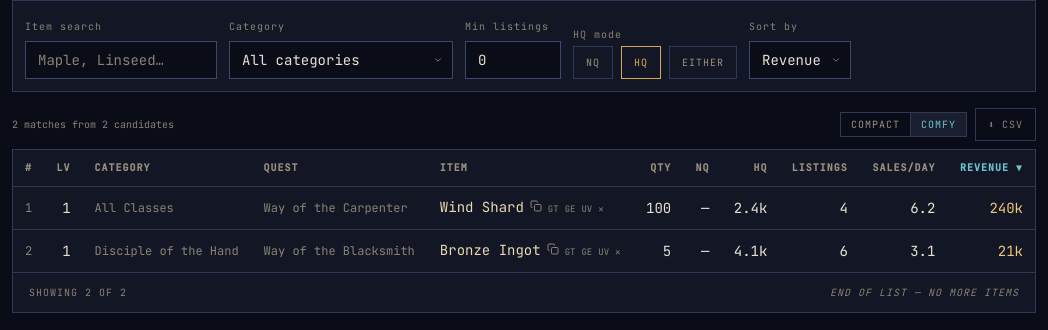
Test: QuestItemFlipView › category dropdown filters by categoryName
Expected: the link "Wind Shard" is shown, [440, 197, 524, 217]
Select "Disciple of the Hand (1)" in the dropdown labelled "Category": coordinates (341, 60) [229, 41, 453, 79]
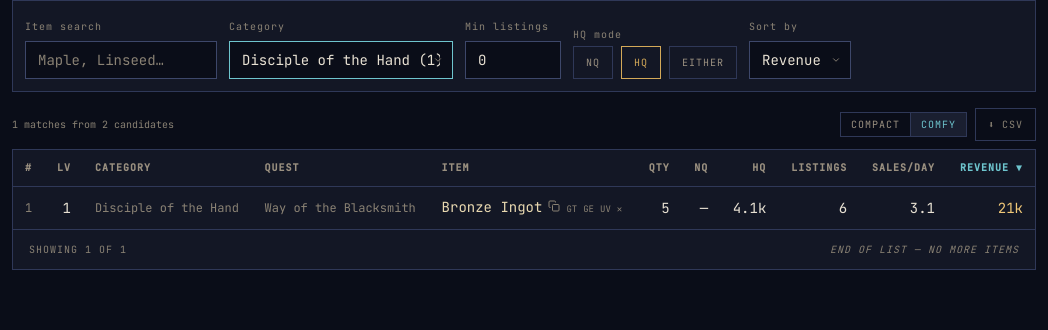
Expected: the link "Bronze Ingot" is shown, [442, 197, 542, 217]
Now the link "Wind Shard" is gone
